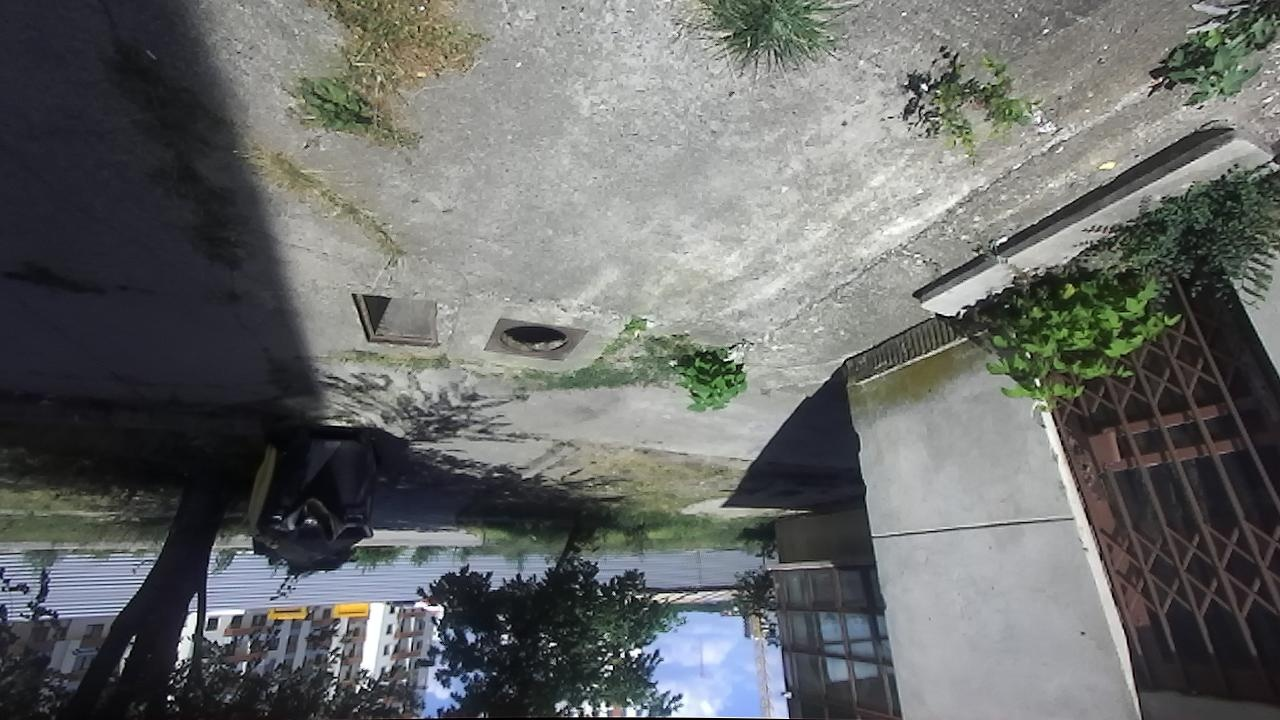drain: (347, 290, 440, 350), (494, 321, 571, 356)
